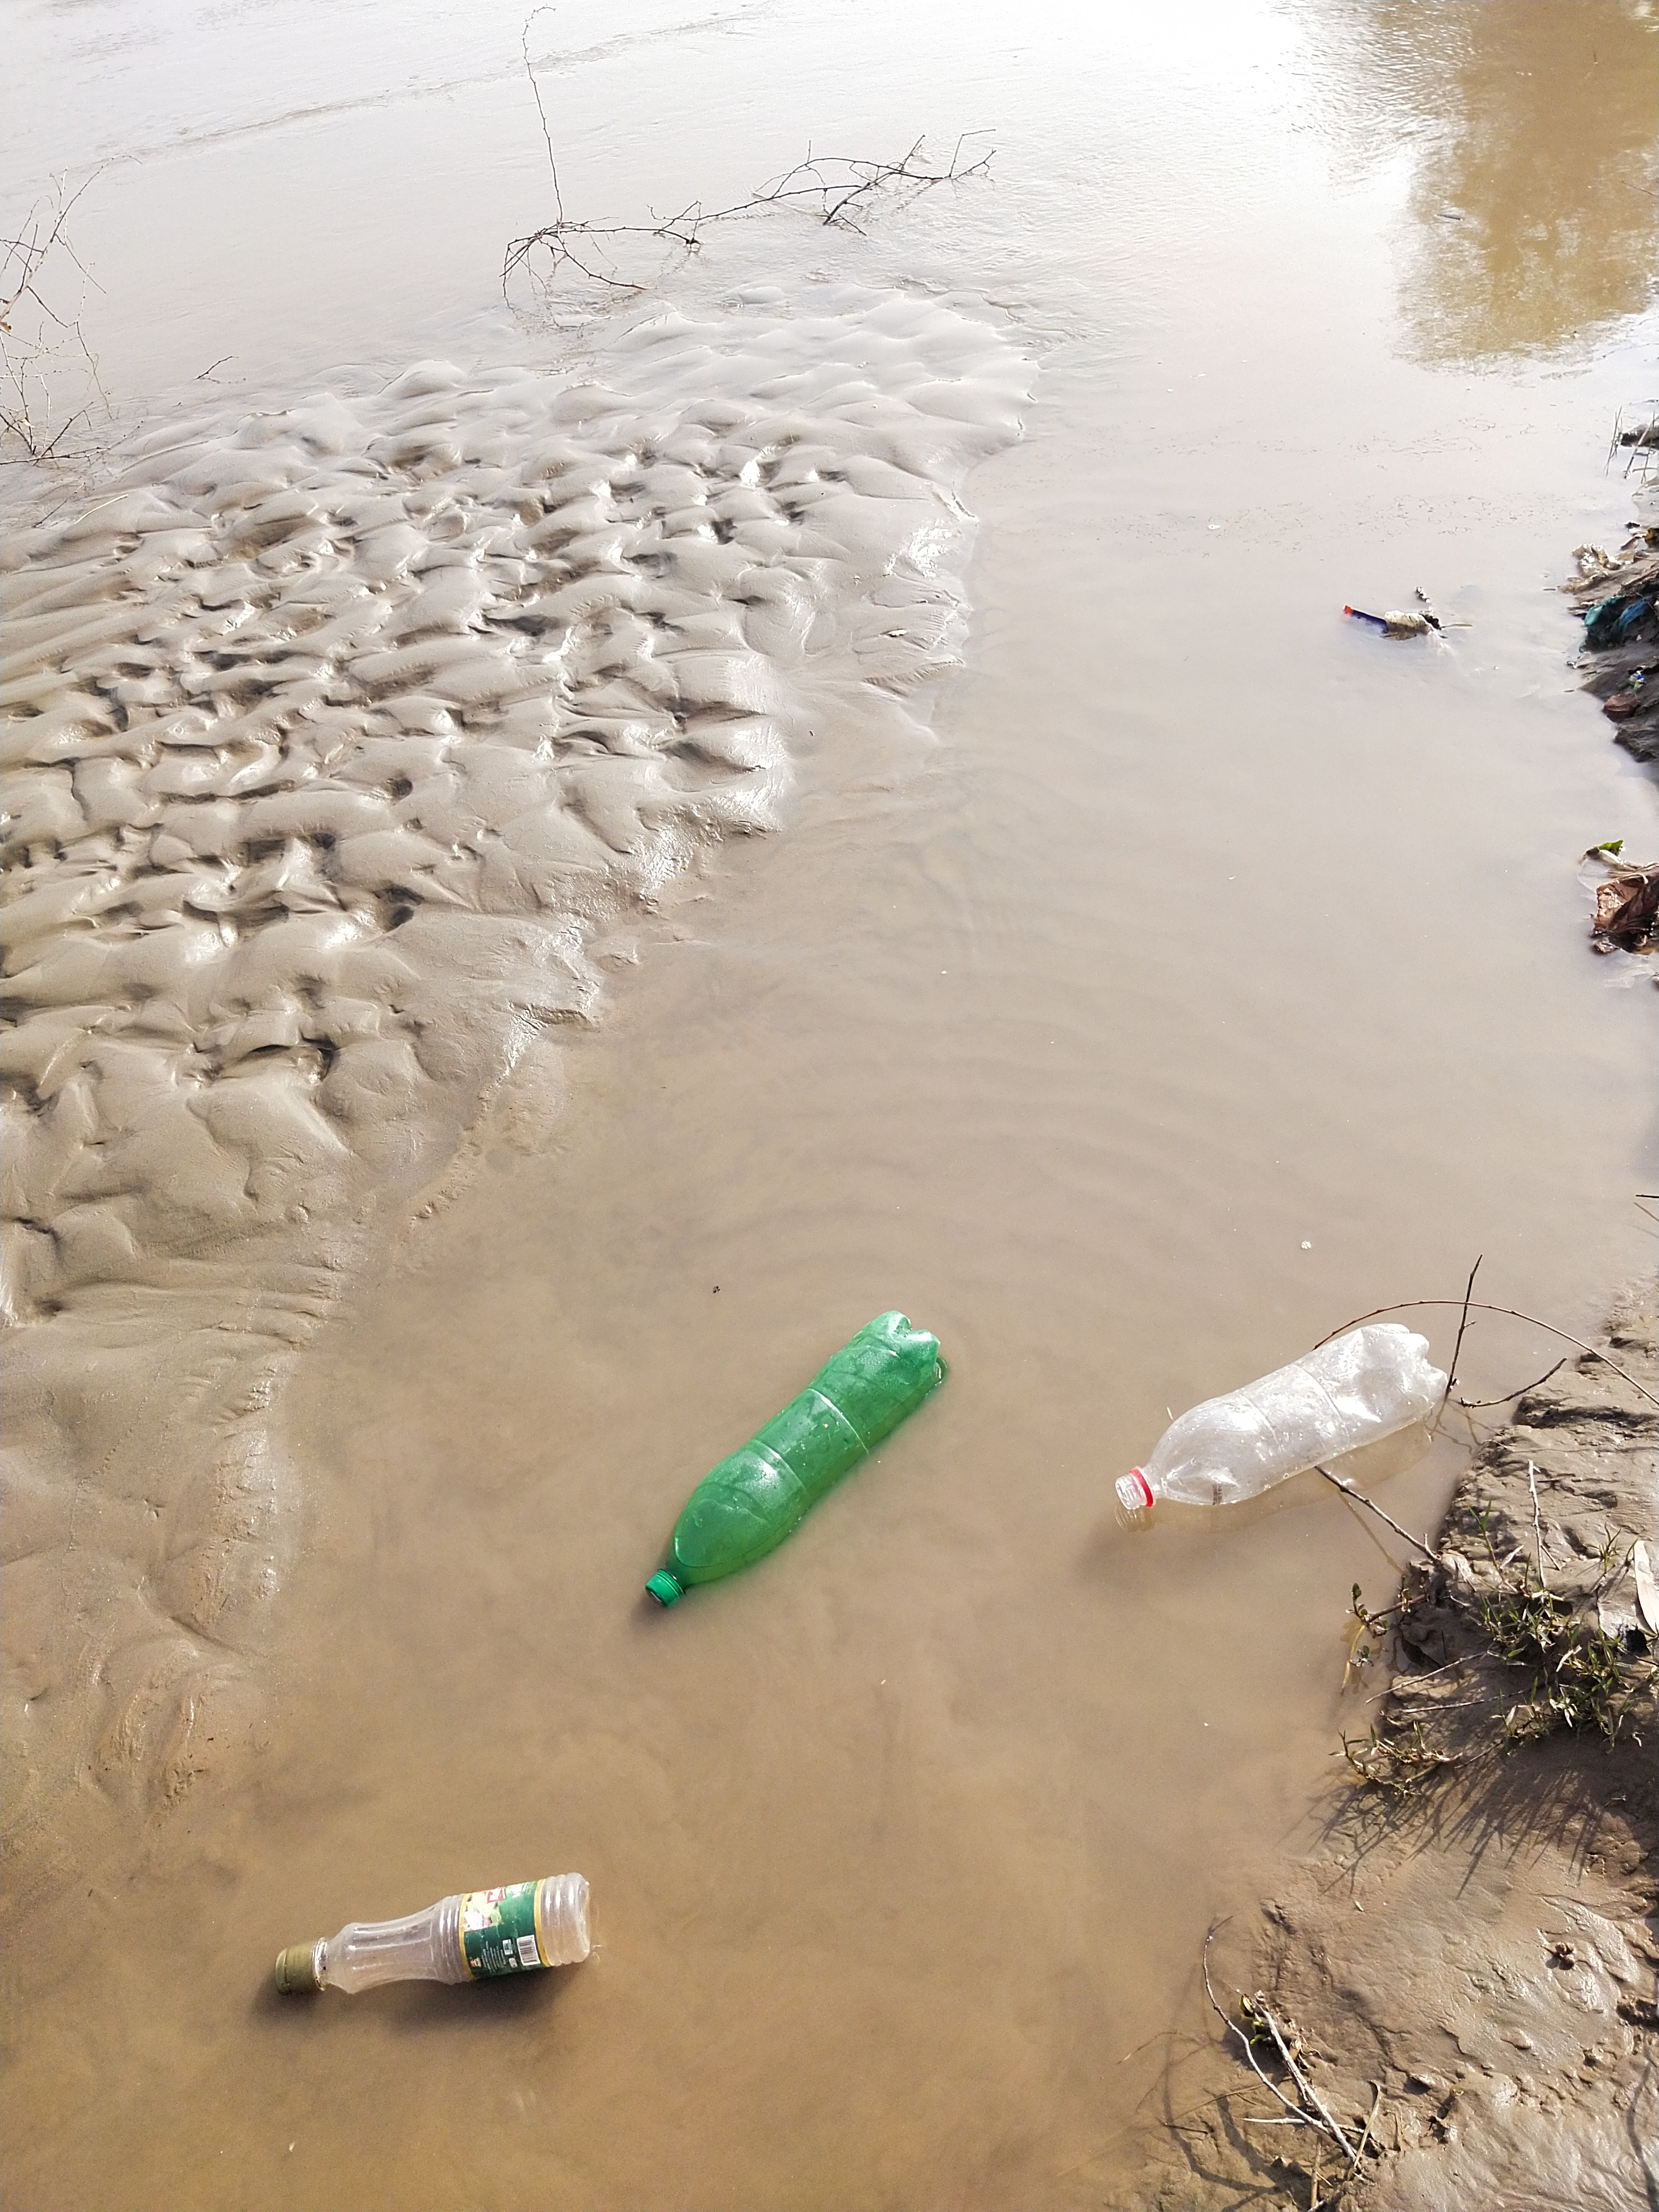Plastic Bottle: (645, 1310, 946, 1611), (1115, 1322, 1448, 1508), (274, 1872, 592, 1996)
